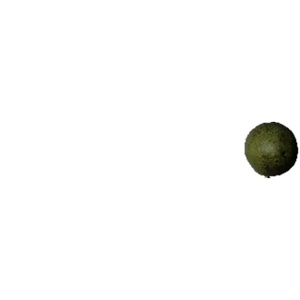abacate: (243, 118, 297, 178)
